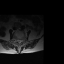CCS_normal: (18, 38, 20, 45)
LFS_normal: (22, 37, 24, 44)
LLS_normal: (20, 37, 22, 43)
RFS_normal: (14, 37, 16, 43)
RLS_normal: (16, 37, 18, 44)
